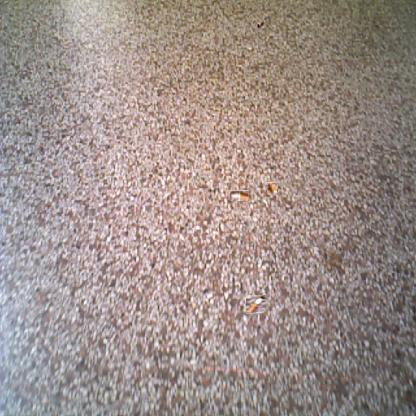dirty: (246, 294, 266, 314), (230, 190, 250, 201), (267, 183, 278, 193), (256, 18, 264, 28)
